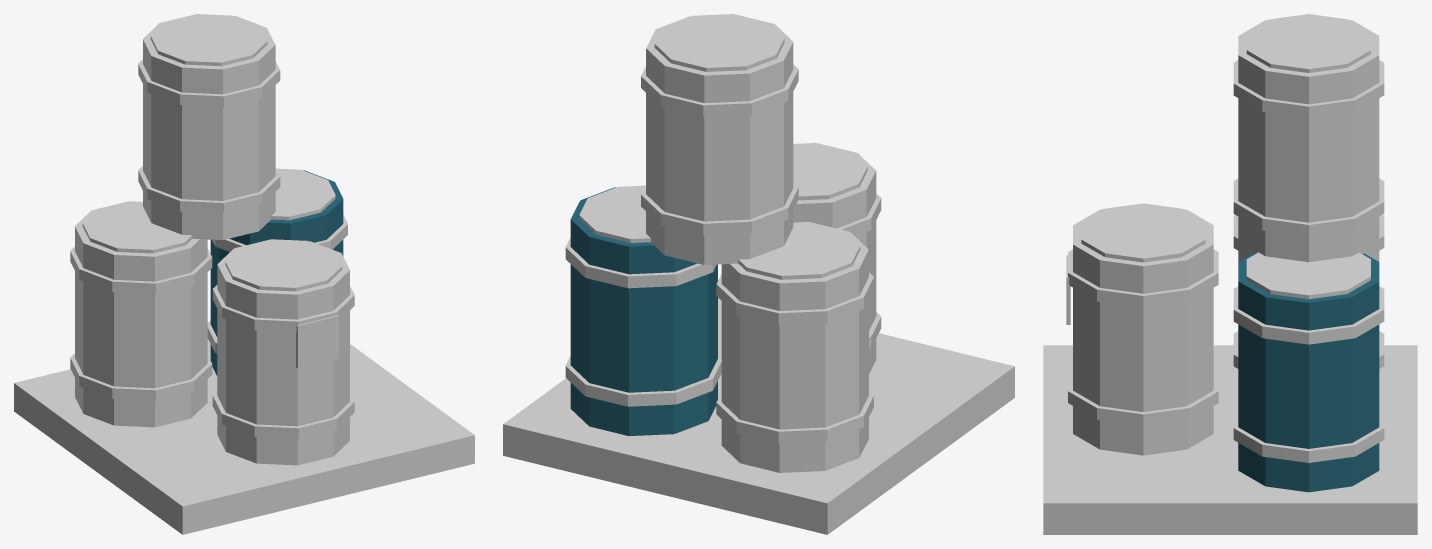
The model's file is decor_barrels.obj.
The picture shows the model from 3 angles, left to right: view 1: azimuth 30°, elevation 25°; view 2: azimuth 150°, elevation 25°; view 3: azimuth 270°, elevation 25°; orthographic projection. The views are drawn at different scales.
Parts seen in each view (by area): view 1: Body; view 2: Body; view 3: Body.
Boxes of the visible parts, x1,y1,x2,y2 form: Body: (14, 14, 474, 534); Body: (503, 14, 1014, 534); Body: (1043, 14, 1417, 534).
Size of the model in its own units: 0.86 by 1.05 by 0.86.
